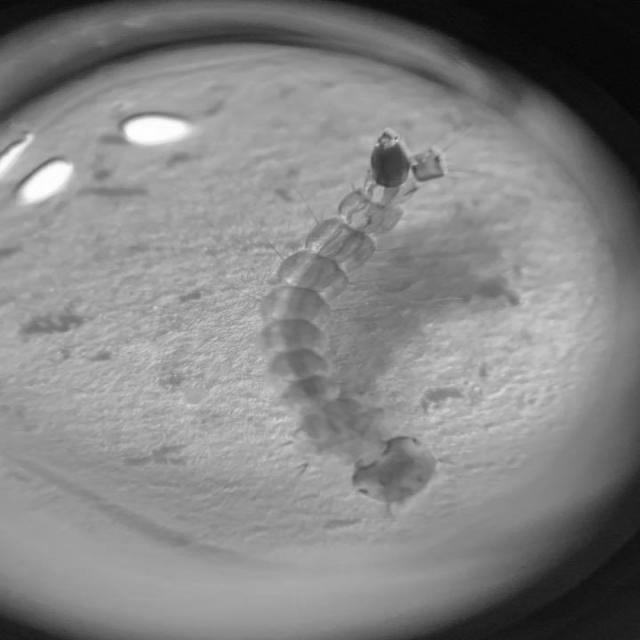larvas: (262, 136, 440, 516)
